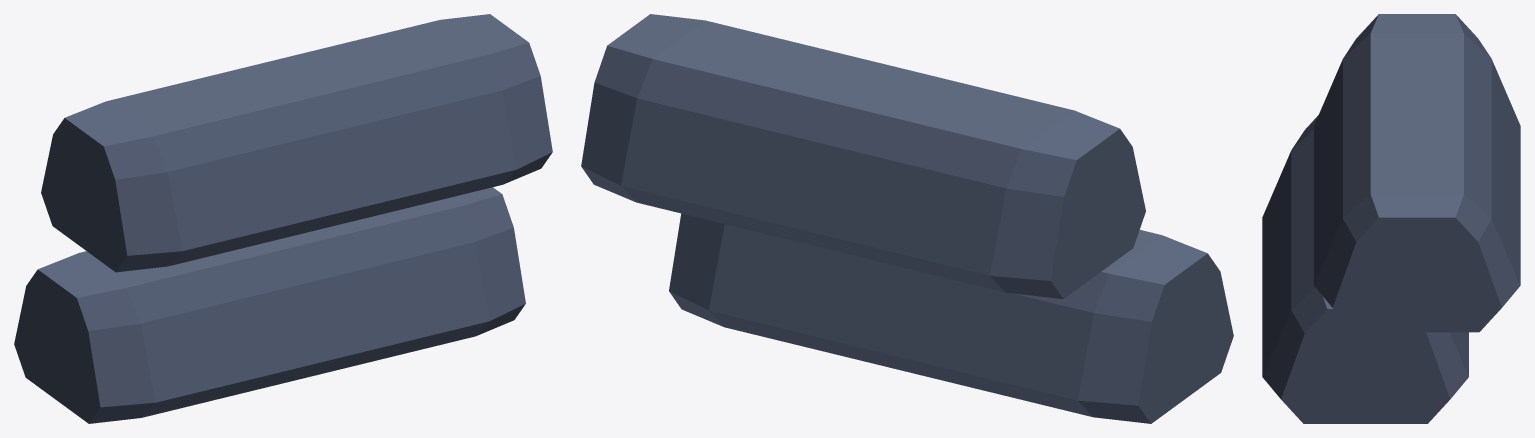
Rendered from lead_bar.glb.
The picture shows the model from 3 angles, left to right: view 1: azimuth 30°, elevation 25°; view 2: azimuth 150°, elevation 25°; view 3: azimuth 270°, elevation 25°; orthographic projection. The views are drawn at different scales.
Visible parts, largest first — view 1: lead_bar_v0; view 2: lead_bar_v0; view 3: lead_bar_v0.
Boxes of the visible parts, box(x1,y1,x2,y2) form: lead_bar_v0: box(14, 14, 552, 423); lead_bar_v0: box(581, 14, 1233, 423); lead_bar_v0: box(1262, 14, 1520, 423).
Bounding box in the file's own units: 0.315 × 0.15 × 0.15.
